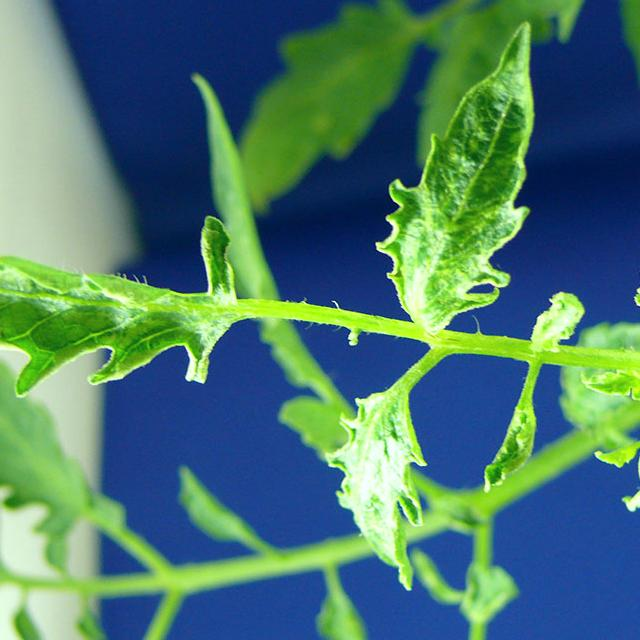Tomato leaf mosaic virus: (359, 13, 567, 335), (0, 225, 266, 382), (317, 380, 438, 600), (600, 116, 640, 359)
